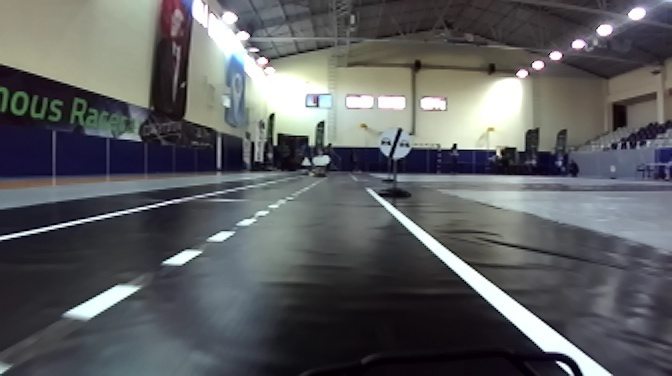sollama_serbest: (378, 128, 411, 161)
